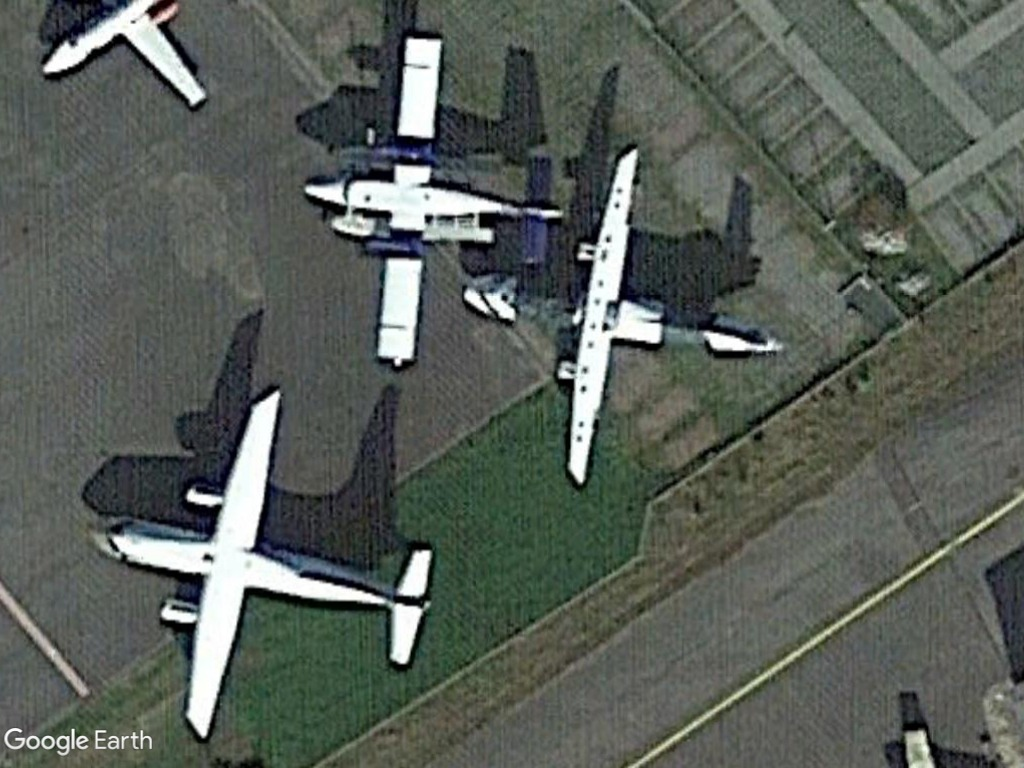propeller: (81, 377, 455, 751), (300, 21, 562, 393)
